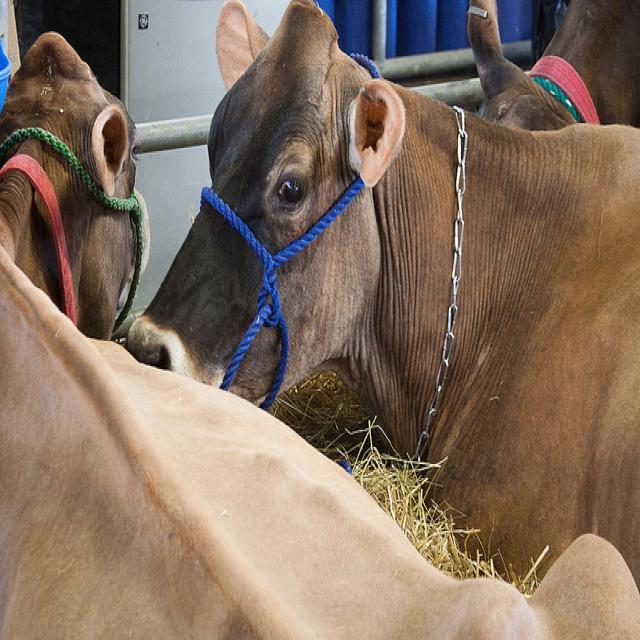cow: (0, 31, 639, 632), (124, 0, 639, 587), (467, 0, 639, 128)
